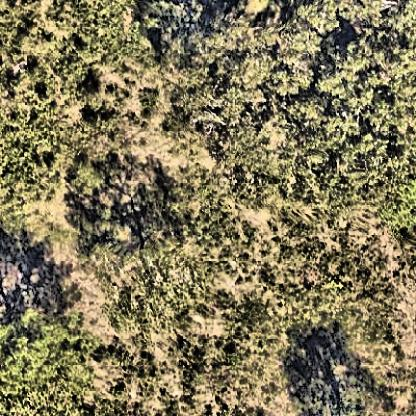tree-top: (96, 241, 208, 334), (212, 3, 324, 96), (328, 26, 416, 143), (1, 307, 96, 403), (158, 165, 242, 240), (380, 178, 416, 228)
